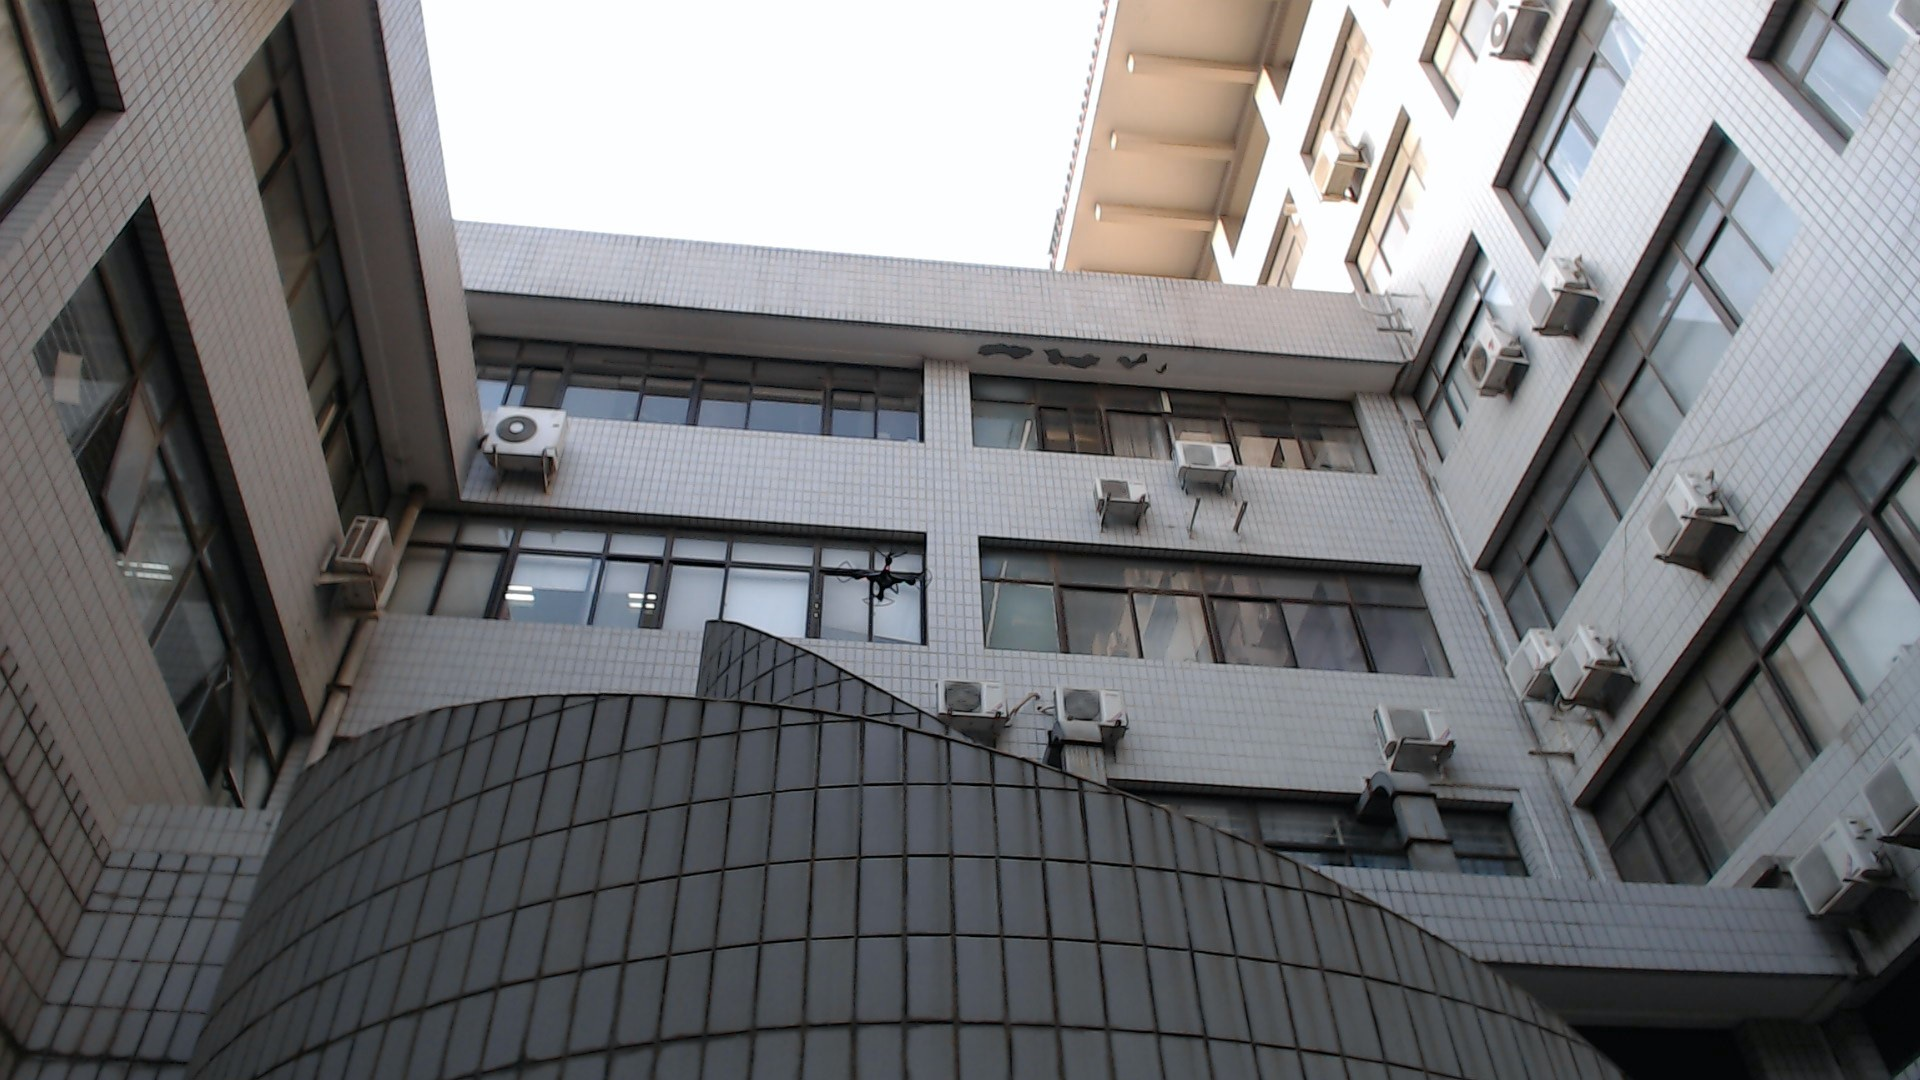drone: (814, 517, 956, 624)
